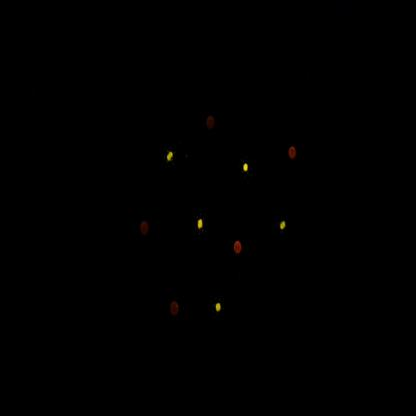PE: (208, 286, 232, 327), (275, 207, 292, 239), (164, 142, 178, 171), (194, 213, 208, 239), (240, 154, 253, 177)
PS: (203, 108, 221, 140), (167, 295, 183, 323), (287, 141, 302, 165), (140, 216, 154, 241), (232, 236, 246, 259)
